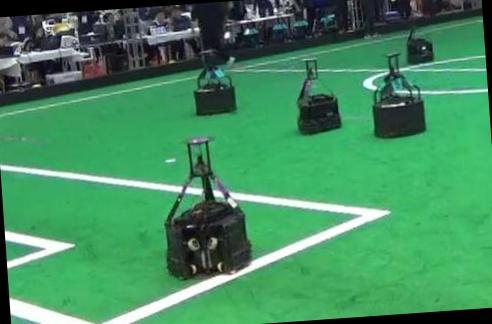robot: (164, 137, 249, 277), (372, 53, 426, 136), (297, 58, 341, 133), (195, 49, 236, 115), (406, 27, 433, 63)
